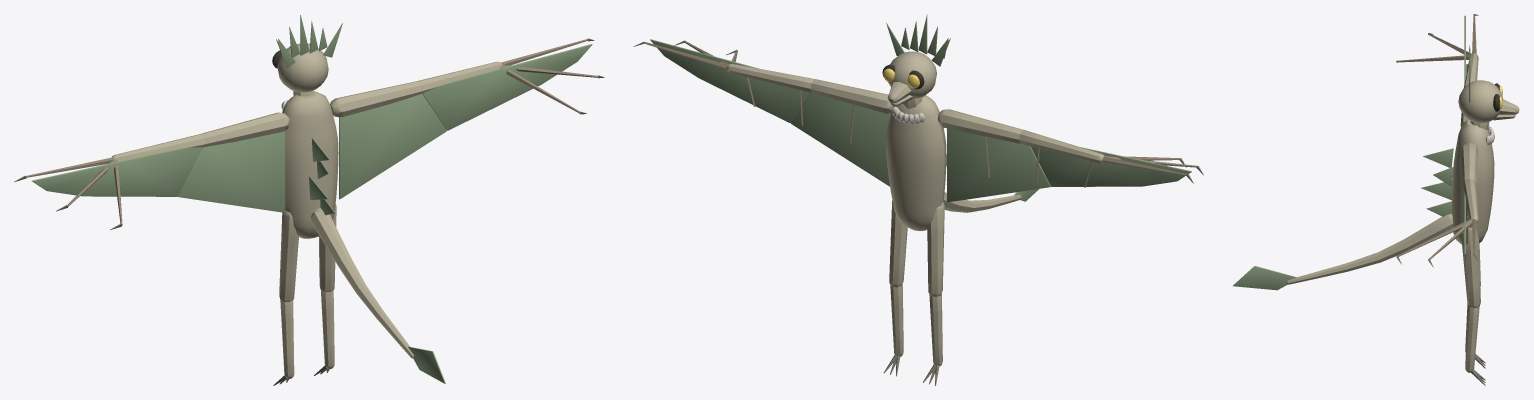
File: en_glider.gltf
3 views of the same model, side by side, from view 1: azimuth 30°, elevation 25°; view 2: azimuth 150°, elevation 25°; view 3: azimuth 270°, elevation 25° (orthographic). The views are drawn at different scales.
Visible parts, largest first — view 1: ArmR, ArmL, ForeR, ForeL, Spine, Tail, Head, LegL, ShinR, ShinL, V1_Frayed, LegR (+1 smaller); view 2: ArmL, Spine, ArmR, ForeL, ForeR, Head, LegL, LegR, ShinL, ShinR, Tail, V3_Crest; view 3: Spine, Tail, Head, ForeR, LegR, V1_Frayed, ForeL, ShinR, ArmR.
Part boxes in pixels (bbox=[...]): ArmR: bbox=[330, 81, 446, 199]; ArmL: bbox=[177, 112, 289, 212]; ForeR: bbox=[416, 38, 604, 130]; ForeL: bbox=[14, 134, 205, 229]; Spine: bbox=[282, 90, 338, 238]; Tail: bbox=[310, 208, 445, 383]; Head: bbox=[272, 23, 342, 92]; LegL: bbox=[279, 211, 298, 302]; ShinR: bbox=[314, 290, 334, 375]; ShinL: bbox=[273, 300, 294, 385]; V1_Frayed: bbox=[309, 137, 335, 215]; LegR: bbox=[318, 204, 336, 292]; ArmL: bbox=[937, 109, 1050, 202]; Spine: bbox=[886, 95, 946, 230]; ArmR: bbox=[791, 79, 892, 186]; ForeL: bbox=[1019, 130, 1203, 187]; ForeR: bbox=[633, 39, 815, 125]; Head: bbox=[882, 22, 950, 103]; LegL: bbox=[927, 202, 944, 296]; LegR: bbox=[889, 200, 907, 287]; ShinL: bbox=[923, 293, 942, 385]; ShinR: bbox=[883, 284, 903, 376]; Tail: bbox=[943, 189, 1038, 212]; V3_Crest: bbox=[901, 14, 948, 58]; Spine: bbox=[1451, 120, 1494, 244]; Tail: bbox=[1233, 214, 1453, 290]; Head: bbox=[1458, 79, 1519, 122]; ForeR: bbox=[1396, 178, 1478, 267]; LegR: bbox=[1461, 227, 1480, 308]; V1_Frayed: bbox=[1421, 148, 1453, 216]; ForeL: bbox=[1396, 14, 1478, 86]; ShinR: bbox=[1465, 305, 1485, 385]; ArmR: bbox=[1460, 142, 1478, 183].
Bounding box in the file's own units: 2.58 × 1.59 × 1.27.
